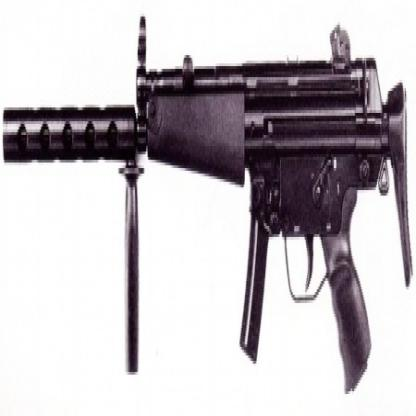Guns: (0, 8, 413, 394)
